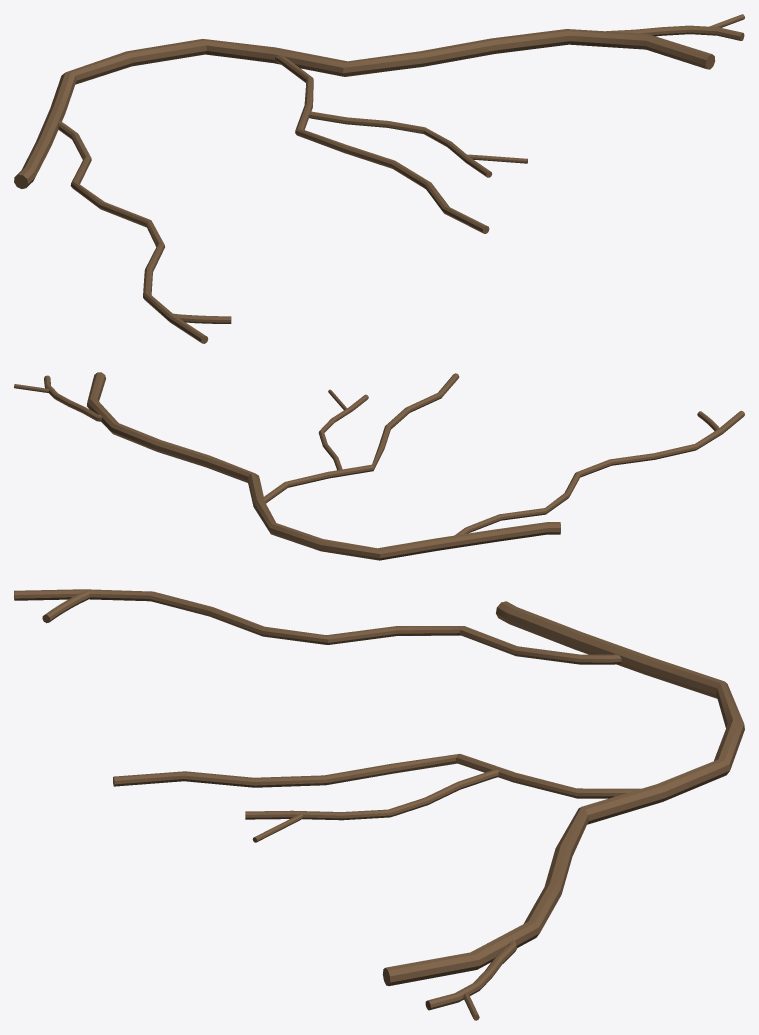
3 views of the same model, one above another, from view 1: azimuth 30°, elevation 25°; view 2: azimuth 150°, elevation 25°; view 3: azimuth 270°, elevation 25° (orthographic). The views are drawn at different scales.
Parts seen in each view (by area): view 1: pasted__pasted__pasted__pasted__pasted__pCylinder12; view 2: pasted__pasted__pasted__pasted__pasted__pCylinder12; view 3: pasted__pasted__pasted__pasted__pasted__pCylinder12.
Part boxes in pixels (x1,y1,x2,y2): pasted__pasted__pasted__pasted__pasted__pCylinder12: (14,14,744,343); pasted__pasted__pasted__pasted__pasted__pCylinder12: (14,372,744,560); pasted__pasted__pasted__pasted__pasted__pCylinder12: (14,589,744,1020).
Size of the model in its own units: 22.99 by 0.4445 by 16.68.
